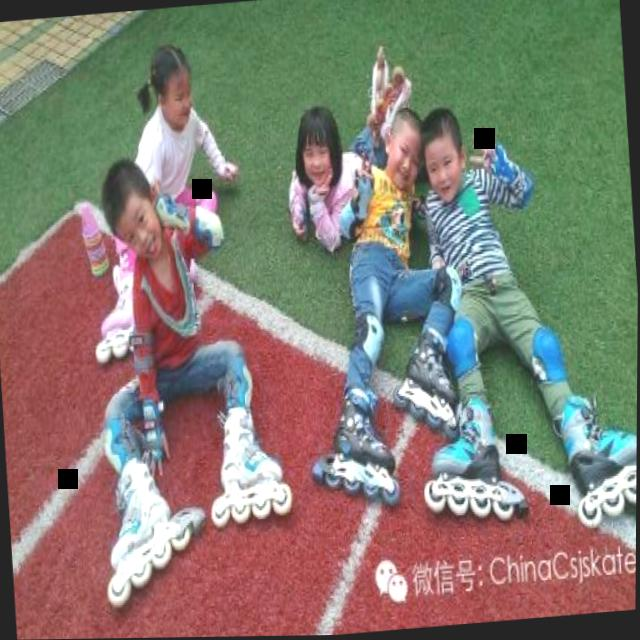Fall-Detected: (268, 61, 415, 273)
